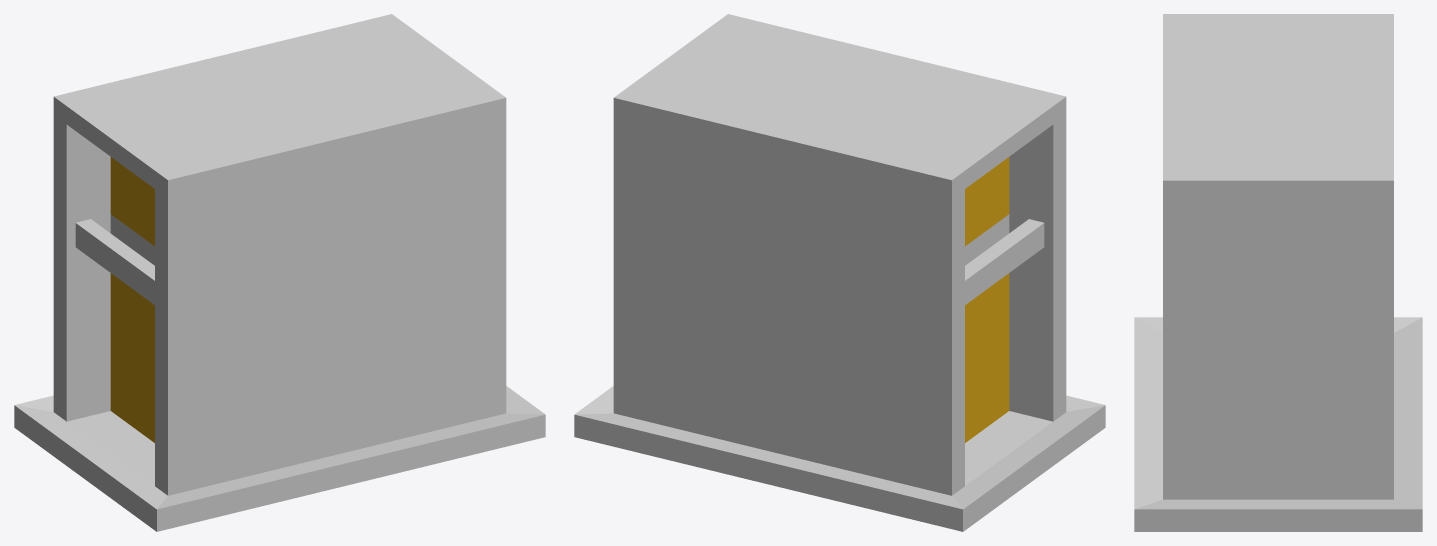
The model's file is windowLighting.fbx.
3 renders of one model, left to right at view 1: azimuth 30°, elevation 25°; view 2: azimuth 150°, elevation 25°; view 3: azimuth 270°, elevation 25°, orthographic.
Parts seen in each view (by area): view 1: Window.013; view 2: Window.013; view 3: Window.013.
Boxes of the visible parts, bbox=[...] form: Window.013: bbox=[14, 14, 545, 531]; Window.013: bbox=[574, 14, 1105, 531]; Window.013: bbox=[1134, 14, 1422, 531].
Size of the model in its own units: 0.7466 by 0.6149 by 0.4741.
